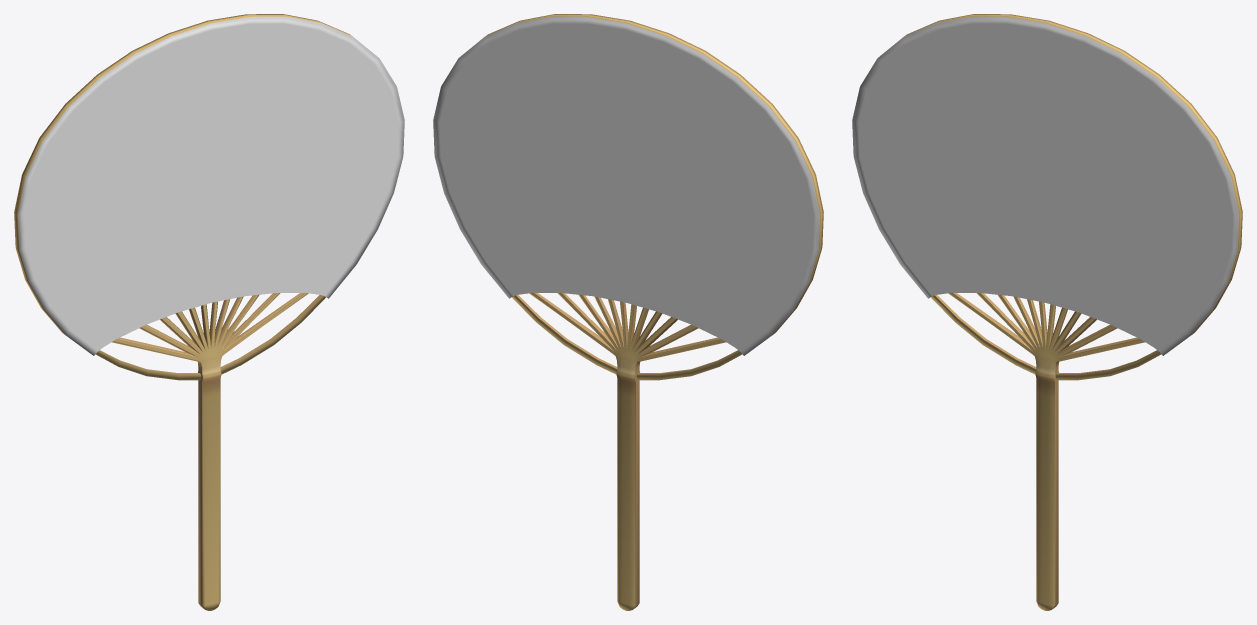
Rendered from accessory_template.glb.
3 renders of one model, left to right at view 1: azimuth 30°, elevation 25°; view 2: azimuth 150°, elevation 25°; view 3: azimuth 330°, elevation 25°, orthographic.
Visible parts, largest first — view 1: Fan; view 2: Fan; view 3: Fan.
Boxes of the visible parts, <box> form: Fan: <box>14,14,404,610</box>; Fan: <box>433,14,823,610</box>; Fan: <box>852,14,1242,610</box>.
Size of the model in its own units: 0.258 by 0.3739 by 0.00791.
1 material, 1 textured.
